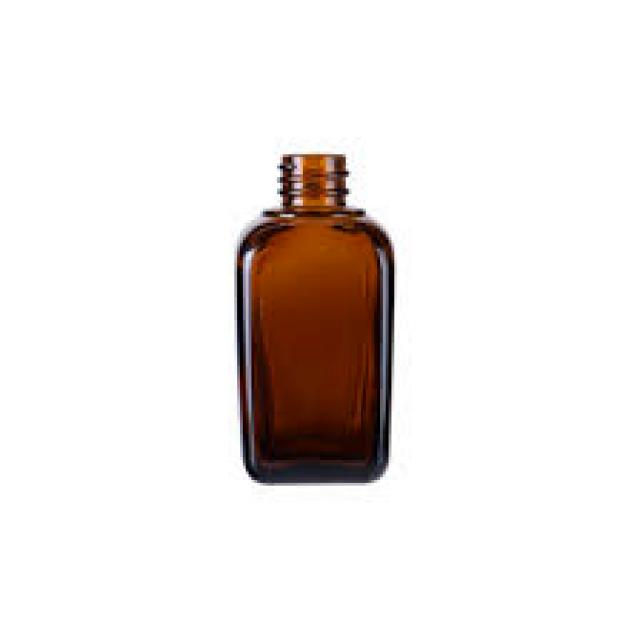Glass: (230, 152, 399, 489)
